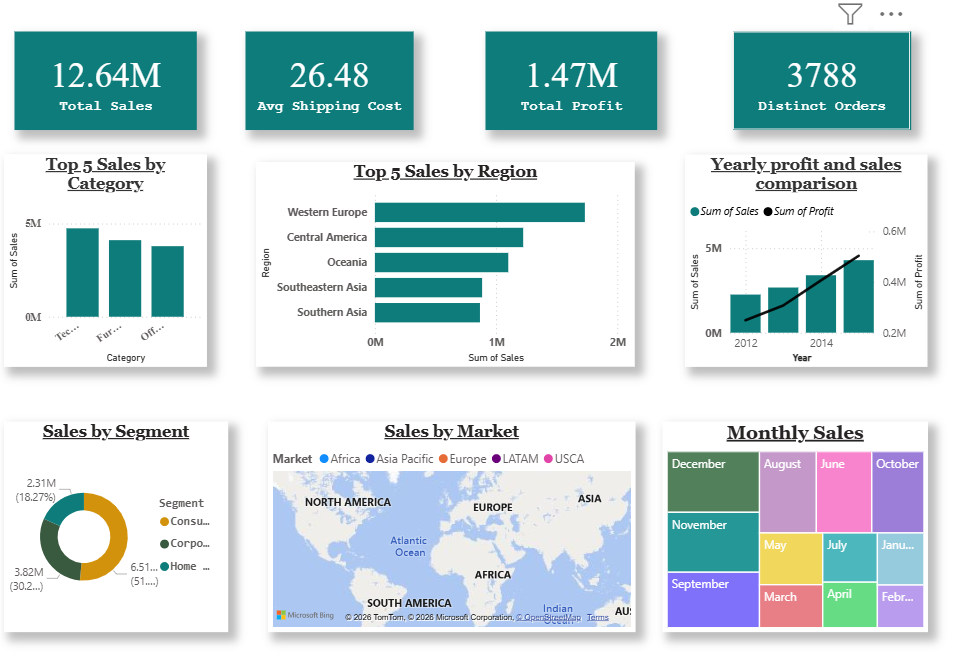

What the dashboard file says about the page in this screenshot:
{"tool":"powerbi","page":{"name":"Page 1","canvas":[1100,750],"ordinal":0},"visuals":[{"type":"card","fields":{"Values":["Sum(Orders.Sales)"]},"box":[19,35,206,111],"z":0},{"type":"card","fields":{"Values":["Avg(Orders.Shipping Cost)"]},"box":[280,35,190,111],"z":1000},{"type":"card","fields":{"Values":["Count(Orders.Product ID)"]},"box":[830,35,201,111],"z":2000},{"type":"card","fields":{"Values":["Sum(Orders.Profit)"]},"box":[550,35,194,111],"z":3000},{"type":"clusteredColumnChart","title":"Top 5 Sales by Category","fields":{"Y":["Sum(Orders.Sales)"],"Category":["Orders.Category"]},"box":[7,174,229,240],"z":4000},{"type":"clusteredBarChart","title":"Top 5 Sales by Region","fields":{"Y":["Sum(Orders.Sales)"],"Category":["Orders.Region"]},"box":[292,183,428,231],"z":5000},{"type":"donutChart","title":"Sales by Segment","fields":{"Y":["Sum(Orders.Sales)"],"Category":["Orders.Segment"]},"box":[7,477,253,238],"z":6000},{"type":"map","title":"Sales by Market","fields":{"Size":["Sum(Orders.Sales)"],"Series":["Orders.Market"]},"box":[305,477,415,238],"z":7000},{"type":"lineStackedColumnComboChart","title":"Yearly profit and sales comparison","fields":{"Y":["Sum(Orders.Sales)"],"Category":["Orders.Order Date.Variation.Date Hierarchy.Year"],"Y2":["Sum(Orders.Profit)"]},"box":[776,174,274,240],"z":8000},{"type":"treemap","title":"Monthly Sales","fields":{"Values":["Sum(Orders.Sales)"],"Group":["Orders.Order Date.Variation.Date Hierarchy.Month"]},"box":[750,477,300,238],"z":9000}]}

Visuals, with their boxes in screenshot pixels (x1, y1, x2, y2), scaled from the page's 1100x750 canvas onto the 966x663 screenshot:
card - Sum(Orders.Sales): detection(17, 31, 198, 129)
card - Avg(Orders.Shipping Cost): detection(246, 31, 413, 129)
card - Count(Orders.Product ID): detection(729, 31, 905, 129)
card - Sum(Orders.Profit): detection(483, 31, 653, 129)
"Top 5 Sales by Category" clusteredColumnChart: detection(6, 154, 207, 366)
"Top 5 Sales by Region" clusteredBarChart: detection(256, 162, 632, 366)
"Sales by Segment" donutChart: detection(6, 422, 228, 632)
"Sales by Market" map: detection(268, 422, 632, 632)
"Yearly profit and sales comparison" lineStackedColumnComboChart: detection(681, 154, 922, 366)
"Monthly Sales" treemap: detection(659, 422, 922, 632)
